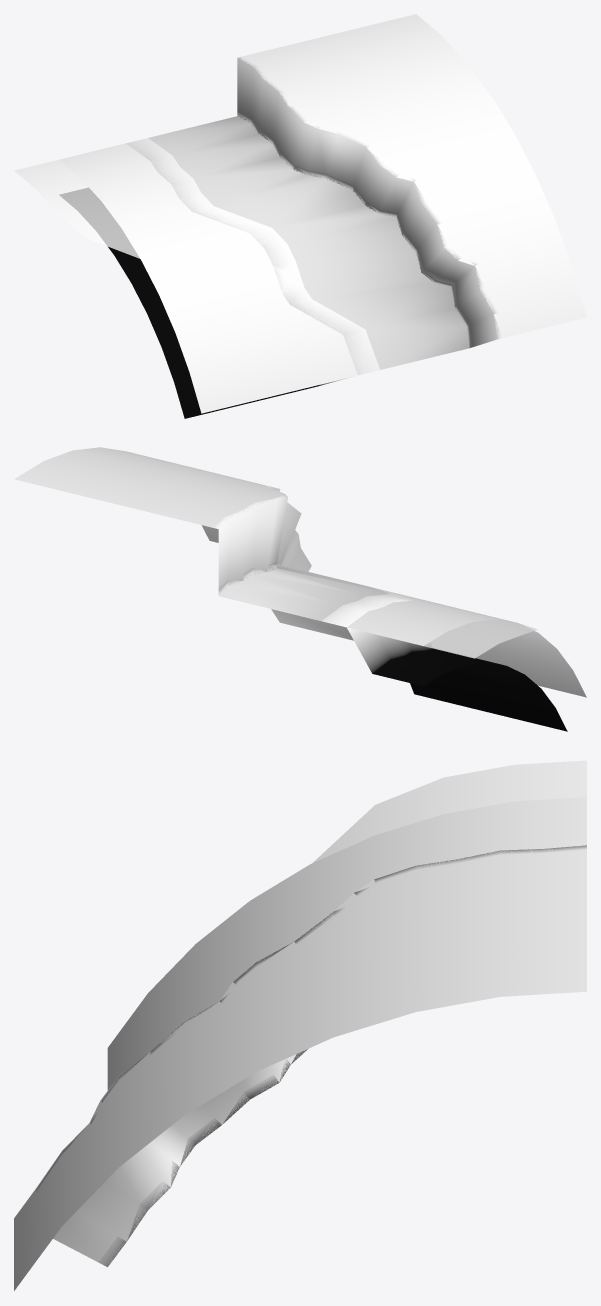
The model's file is grd_Msw_w_1.dae.
3 views of the same model, one above another, from view 1: azimuth 30°, elevation 25°; view 2: azimuth 150°, elevation 25°; view 3: azimuth 270°, elevation 25° (orthographic). The views are drawn at different scales.
Visible parts, largest first — view 1: grass_3_0, ocean_4_0, beach_0_0, wave_5_0, cliff_2_0, beach_1_0; view 2: grass_3_0, beach_1_0, ocean_4_0, beach_0_0, cliff_2_0, wave_5_0; view 3: grass_3_0, ocean_4_0, wave_5_0, cliff_2_0, beach_0_0.
Part boxes in pixels (<box>): grass_3_0: <box>238,14,586,338</box>; ocean_4_0: <box>59,143,357,413</box>; beach_0_0: <box>148,110,469,369</box>; wave_5_0: <box>14,144,379,401</box>; cliff_2_0: <box>237,56,502,347</box>; beach_1_0: <box>60,138,379,418</box>; grass_3_0: <box>14,447,287,542</box>; beach_1_0: <box>321,586,567,731</box>; ocean_4_0: <box>347,593,586,697</box>; beach_0_0: <box>218,562,389,640</box>; cliff_2_0: <box>213,485,311,591</box>; wave_5_0: <box>345,589,549,681</box>; grass_3_0: <box>14,846,586,1290</box>; ocean_4_0: <box>107,797,586,1089</box>; wave_5_0: <box>107,760,586,1090</box>; cliff_2_0: <box>14,845,586,1266</box>; beach_0_0: <box>98,1049,307,1267</box>.
Bounding box in the file's own units: 576 × 308 × 423.
6 materials, 1 textured.
